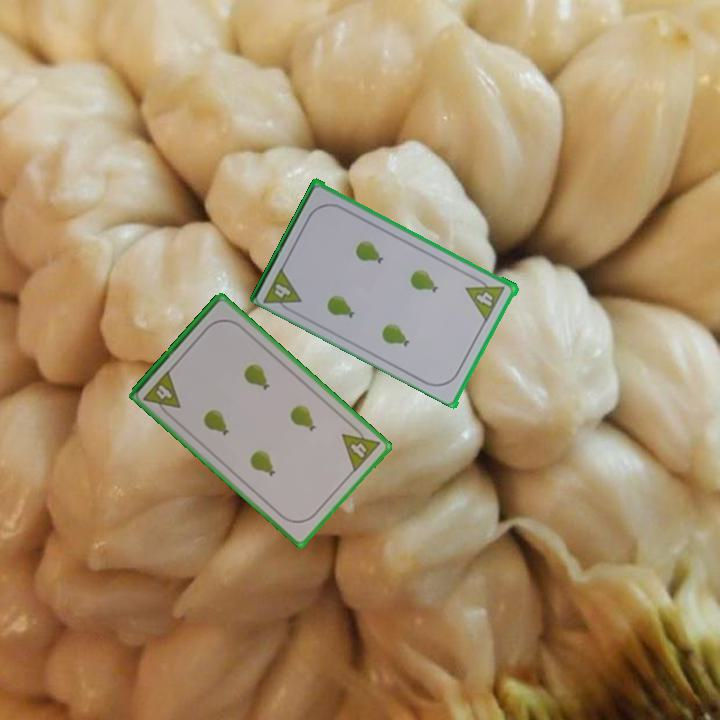4p: (338, 420, 383, 475), (140, 366, 184, 420), (463, 286, 499, 322), (271, 280, 294, 301)
